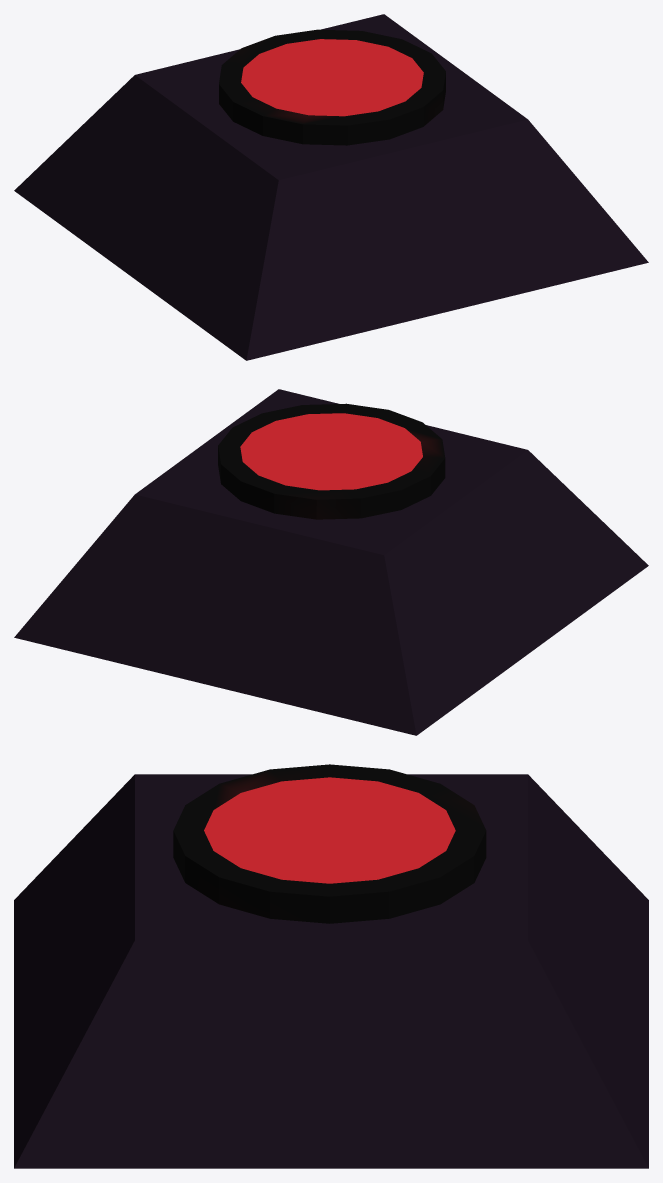
The model's file is Teclas.fbx.
The picture shows the model from 3 angles, top to bottom: view 1: azimuth 30°, elevation 25°; view 2: azimuth 150°, elevation 25°; view 3: azimuth 270°, elevation 25°; orthographic projection. The views are drawn at different scales.
Parts seen in each view (by area): view 1: KeyRec; view 2: KeyRec; view 3: KeyRec.
Part boxes in pixels (x1,y1,x2,y2): KeyRec: (14, 14, 648, 360); KeyRec: (14, 389, 648, 735); KeyRec: (14, 764, 648, 1168).
Bounding box in the file's own units: 323 × 115 × 323.
